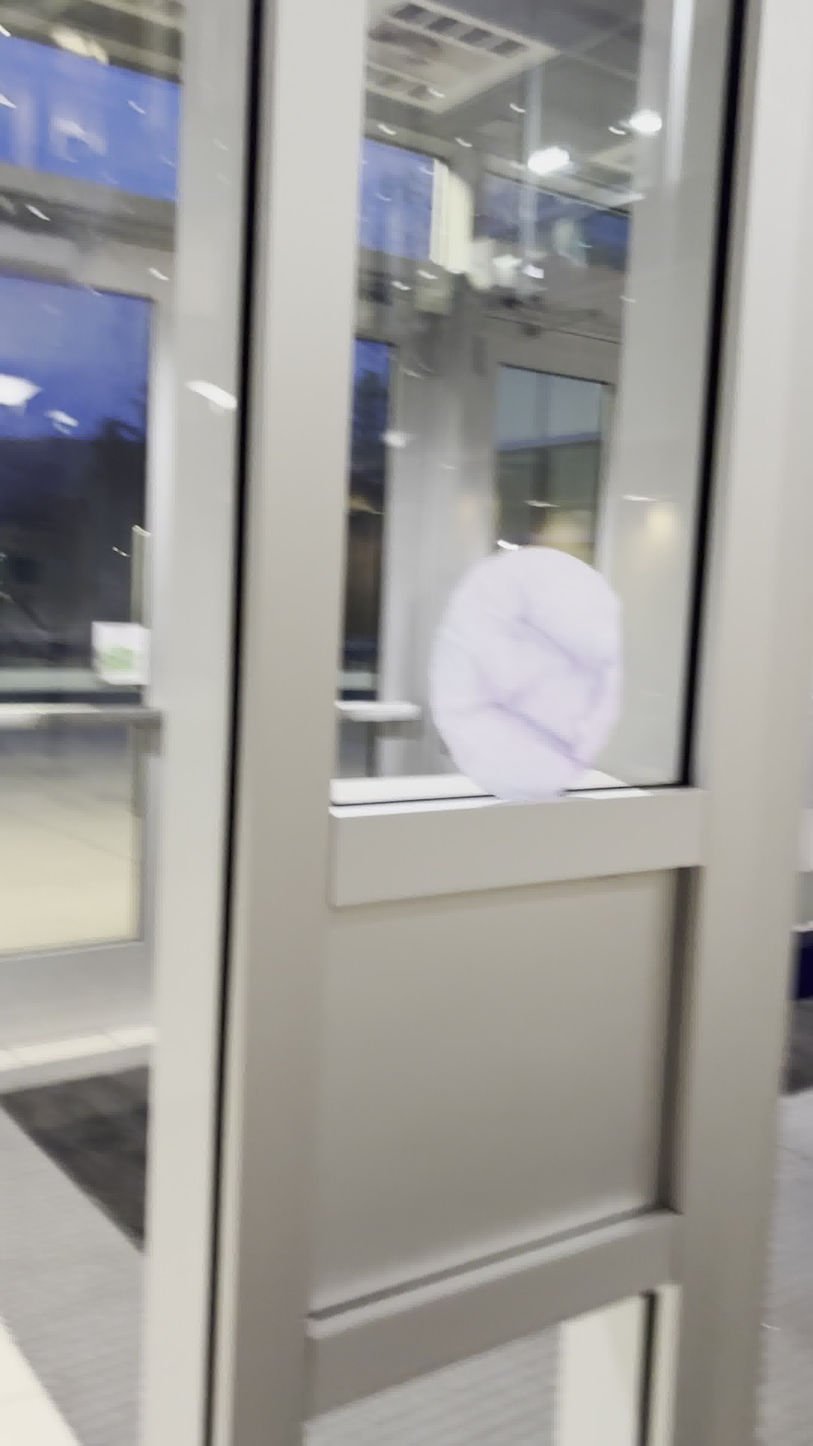Target: (427, 546, 626, 801)
